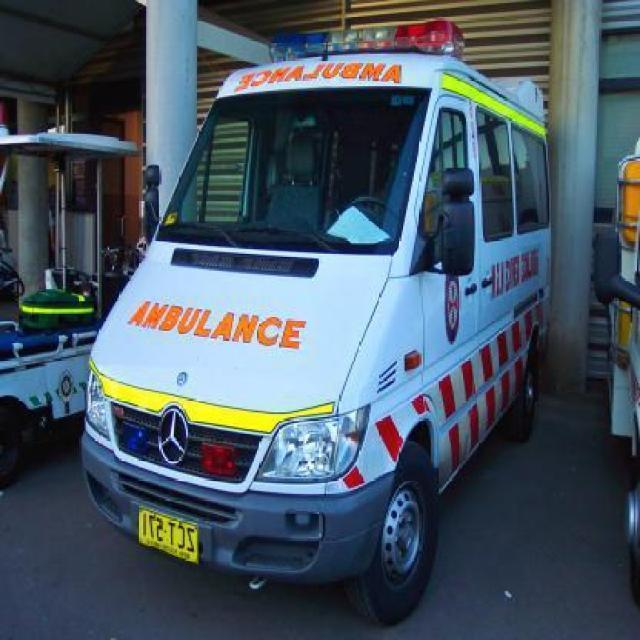emergency: (78, 17, 554, 625)
